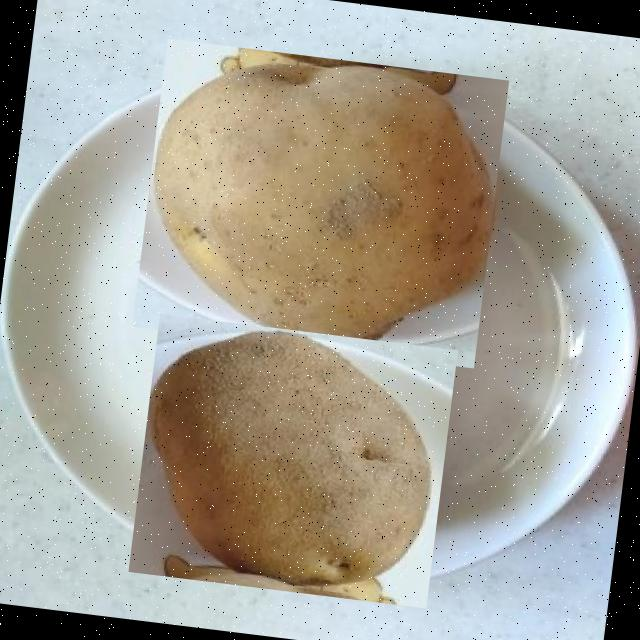Potato: (132, 37, 509, 367), (128, 312, 458, 607)
